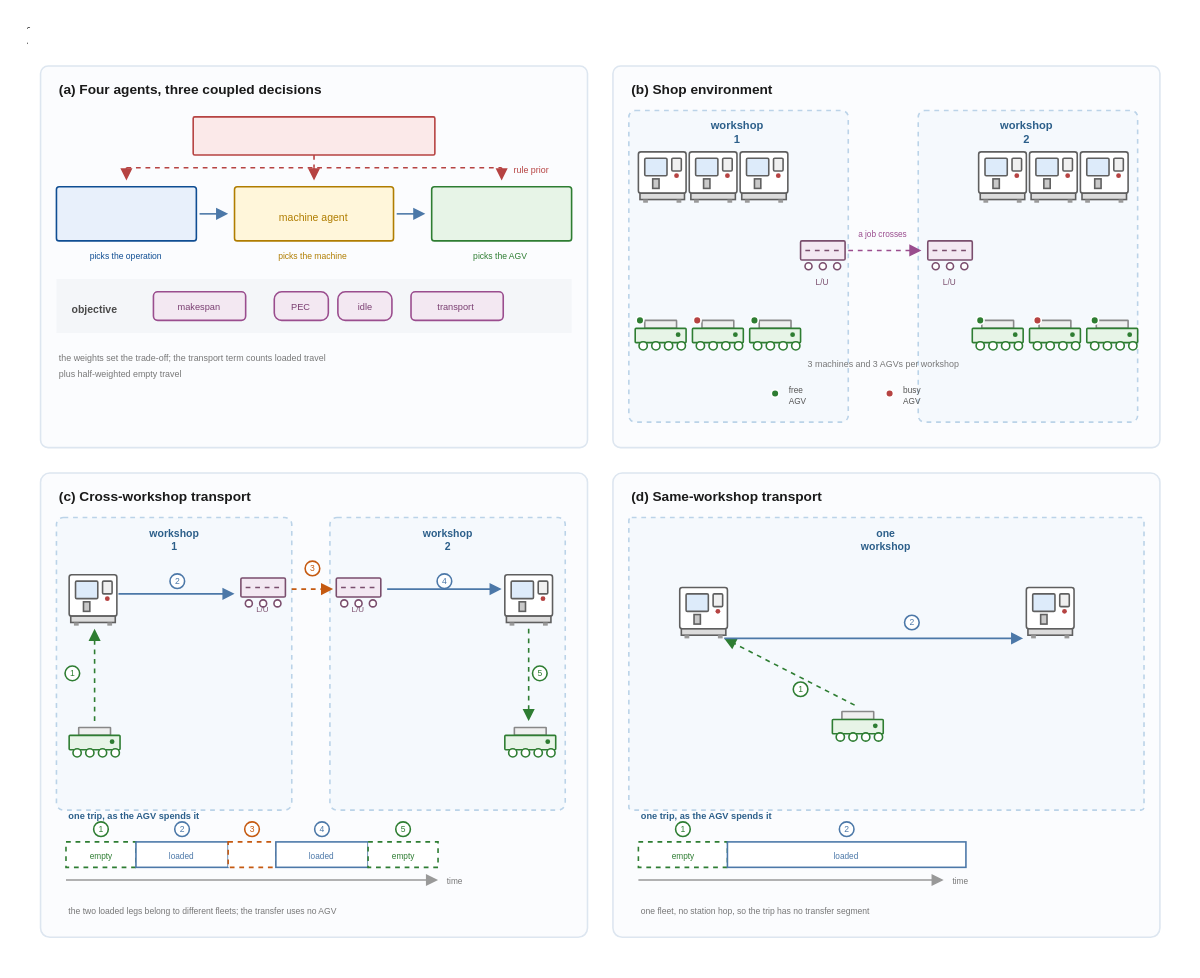
The diagram is 1200 pixels wide and 978 high, and some of its shapes have lost their labels. The centre of each missing label's shape, as x and y in pixels:
"AGV agent" belongs at (501,213).
"operation agent" belongs at (125,213).
"rule selector agent" belongs at (313,135).
"transfer" belongs at (251,853).
